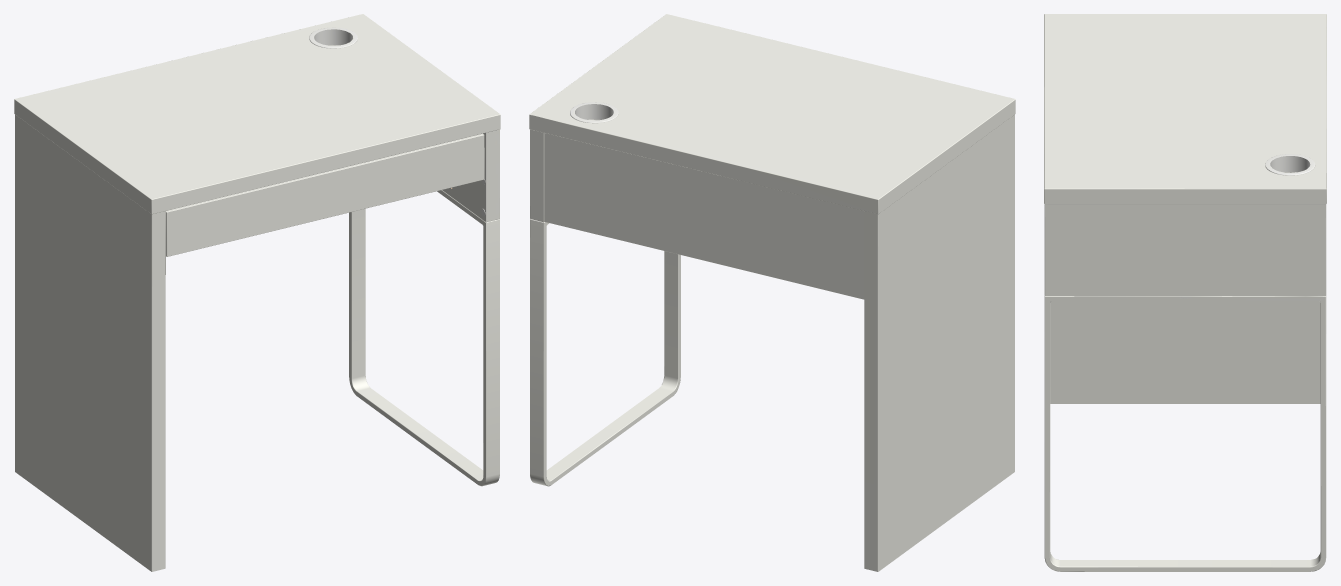
File: micke_biurko_30213076.glb
3 renders of one model, left to right at view 1: azimuth 30°, elevation 25°; view 2: azimuth 150°, elevation 25°; view 3: azimuth 270°, elevation 25°, orthographic. The views are drawn at different scales.
Visible parts, largest first — view 1: micke_biurko_30213076; view 2: micke_biurko_30213076; view 3: micke_biurko_30213076.
Part boxes in pixels (bbox=[...]): micke_biurko_30213076: bbox=[14, 14, 500, 571]; micke_biurko_30213076: bbox=[529, 14, 1015, 571]; micke_biurko_30213076: bbox=[1044, 14, 1326, 571].
Size of the model in its own units: 0.733 by 0.7516 by 0.5.
1 material, 1 textured.
